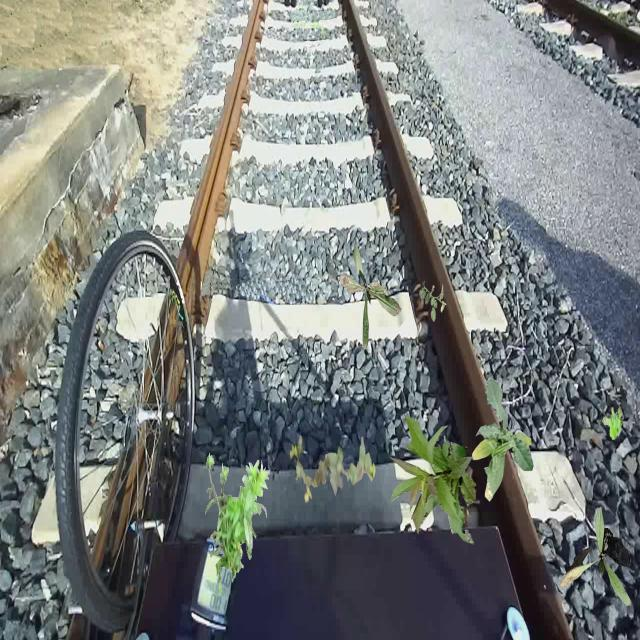Plant: (388, 415, 476, 545), (205, 452, 270, 596), (472, 377, 534, 502), (338, 238, 402, 350), (559, 507, 630, 606), (290, 434, 377, 502), (419, 281, 446, 322), (602, 407, 622, 440)
